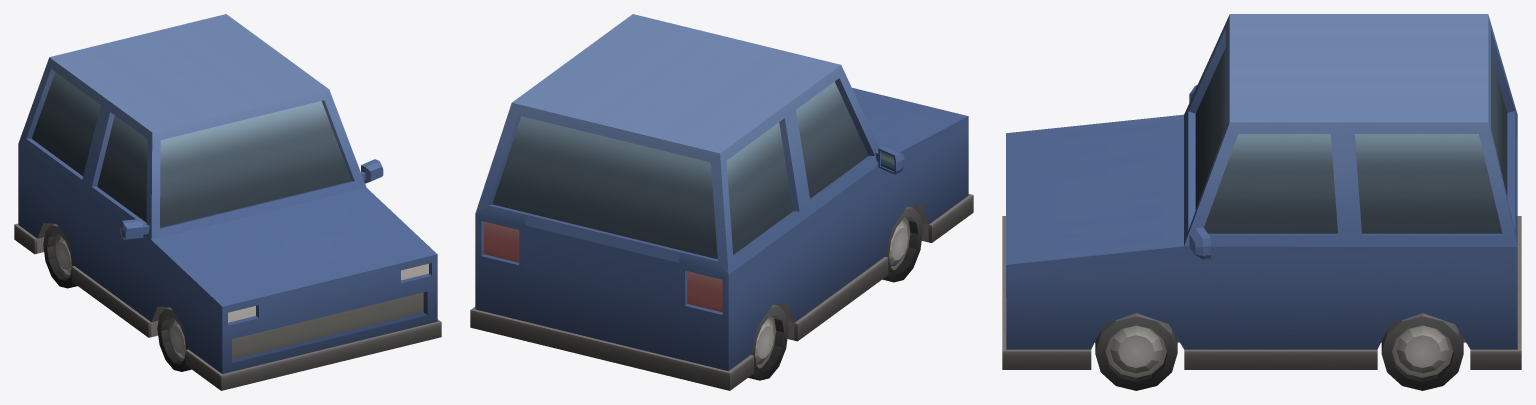
Rendered from Car_01_02_FBX.fbx.
3 renders of one model, left to right at view 1: azimuth 30°, elevation 25°; view 2: azimuth 150°, elevation 25°; view 3: azimuth 270°, elevation 25°, orthographic. The views are drawn at different scales.
Parts seen in each view (by area): view 1: pCube157; view 2: pCube157; view 3: pCube157.
Part boxes in pixels (x1,y1,x2,y2): pCube157: [14, 14, 441, 390]; pCube157: [470, 14, 973, 390]; pCube157: [1002, 14, 1521, 390].
Bounding box in the file's own units: 236 × 180 × 327.
